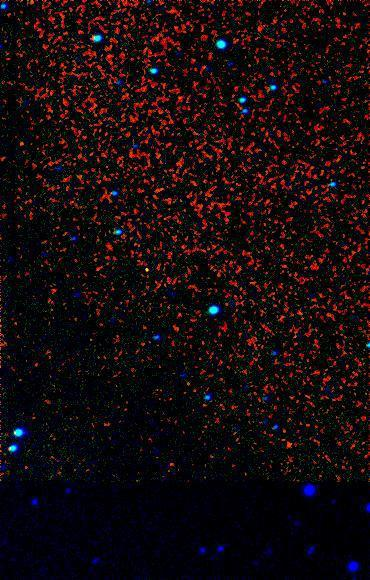star: (6, 129, 36, 159)
